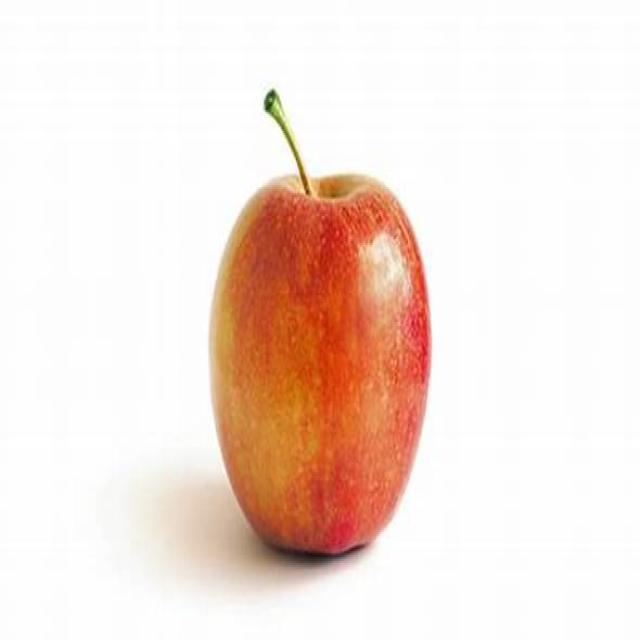Apple: (210, 93, 432, 557)
